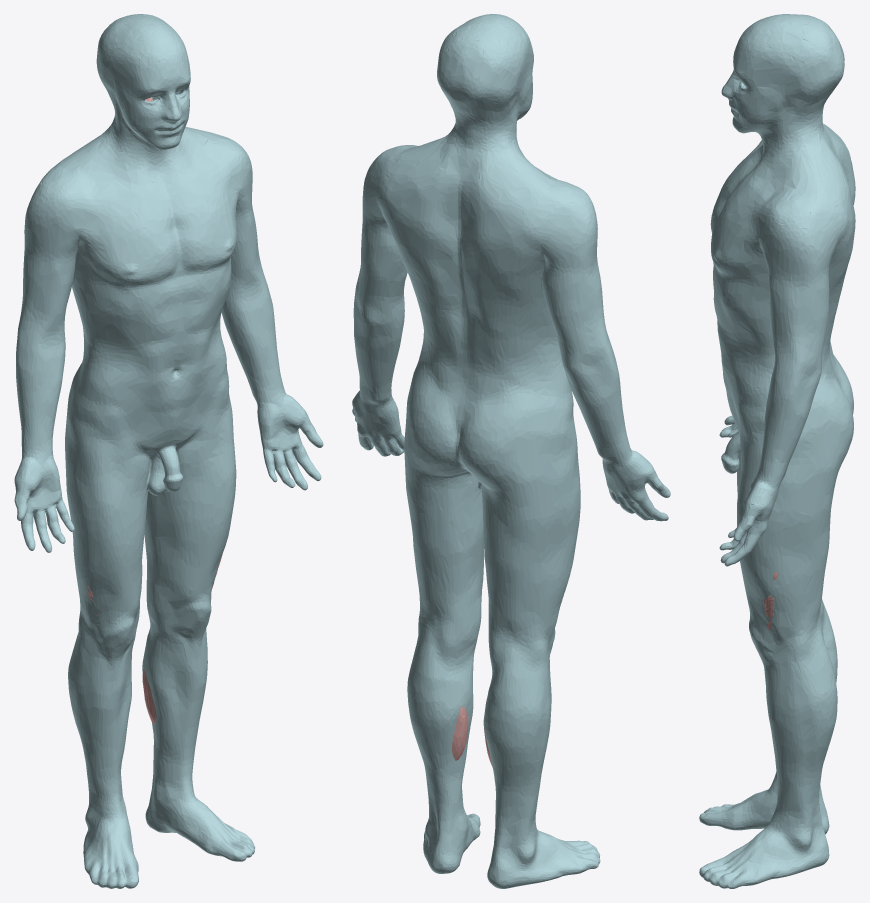
The model's file is muscular-atlas.glb.
3 renders of one model, left to right at view 1: azimuth 30°, elevation 25°; view 2: azimuth 150°, elevation 25°; view 3: azimuth 270°, elevation 25°, orthographic. The views are drawn at different scales.
Parts seen in each view (by area): view 1: Silhouette; view 2: Silhouette; view 3: Silhouette.
Part boxes in pixels (left/top/right/bottom): Silhouette: left=14, top=14, right=323, bottom=888; Silhouette: left=352, top=14, right=670, bottom=888; Silhouette: left=699, top=14, right=855, bottom=888.
Bounding box in the file's own units: 1.33 × 3.44 × 0.5839.
